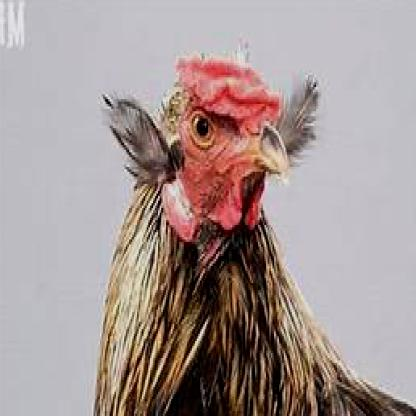chicken: (92, 53, 414, 414)
